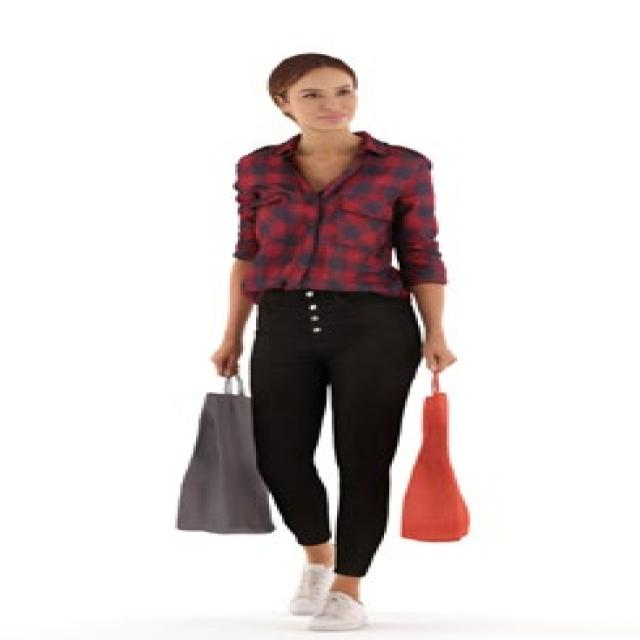standing: (205, 50, 456, 640)
